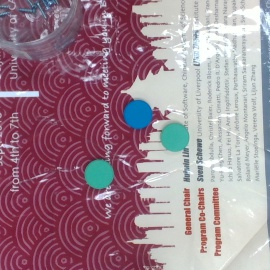blue: (122, 100, 153, 130)
green: (83, 160, 115, 189), (160, 122, 189, 152)
